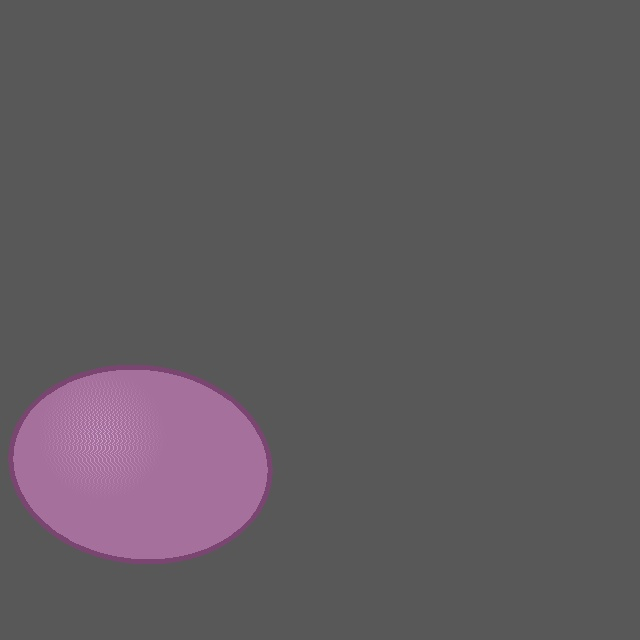lens: (11, 367, 269, 561)
